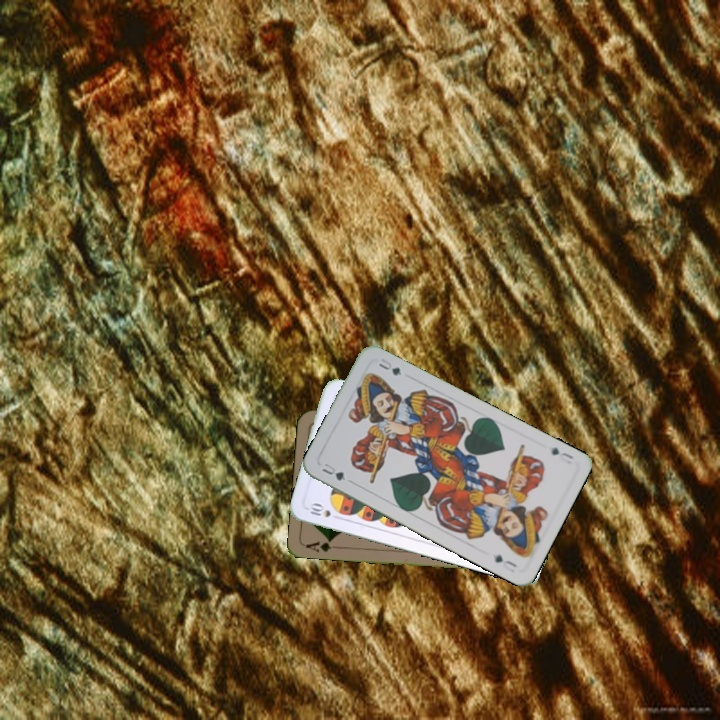GA: (302, 535, 342, 554)
GU: (318, 459, 350, 483), (547, 443, 576, 462)
S10: (304, 500, 334, 520)
